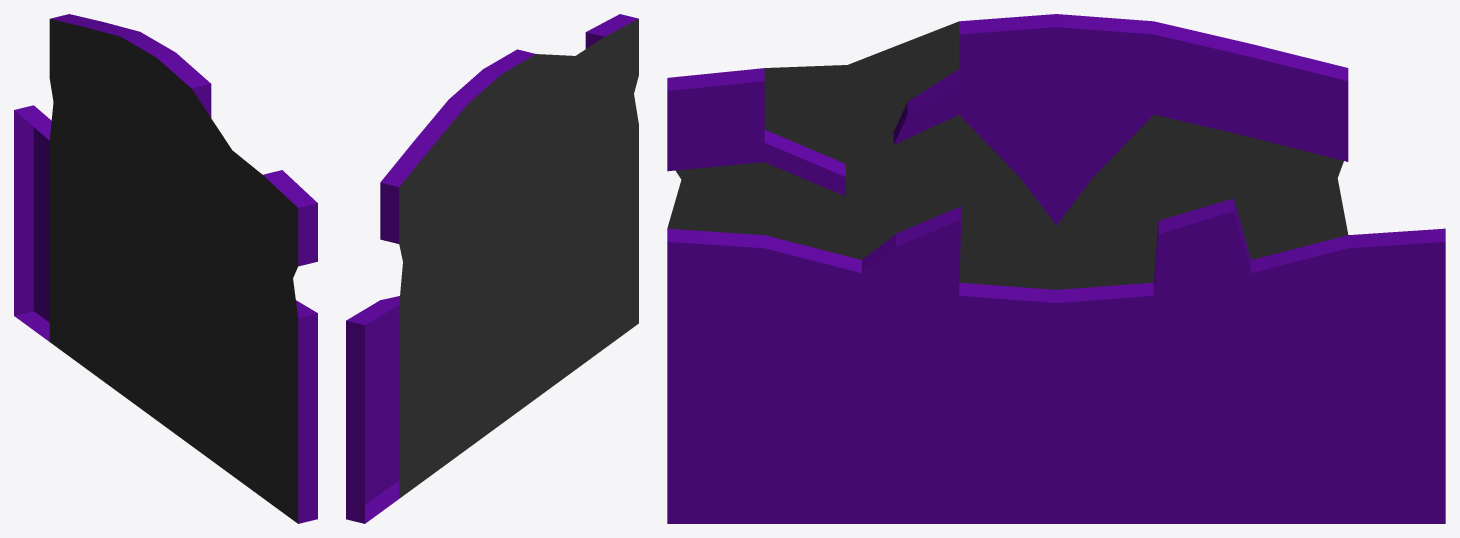
The model's file is tunnel.fbx.
The picture shows the model from 3 angles, left to right: view 1: azimuth 30°, elevation 25°; view 2: azimuth 150°, elevation 25°; view 3: azimuth 270°, elevation 25°; orthographic projection. The views are drawn at different scales.
Parts seen in each view (by area): view 1: tunnel1, tunnel, ground1; view 2: tunnel1, tunnel, ground1; view 3: tunnel, tunnel1, ground1.
Part boxes in pixels (x1,y1,x2,y2): tunnel1: (49,19,298,523); tunnel: (14,105,317,523); ground1: (50,14,317,266); tunnel1: (399,19,638,498); tunnel: (346,296,399,523); ground1: (380,14,638,243); tunnel: (667,198,1445,523); tunnel1: (667,21,1348,289); ground1: (667,14,1348,225).
Size of the model in its own units: 1 by 17.61 by 25.
